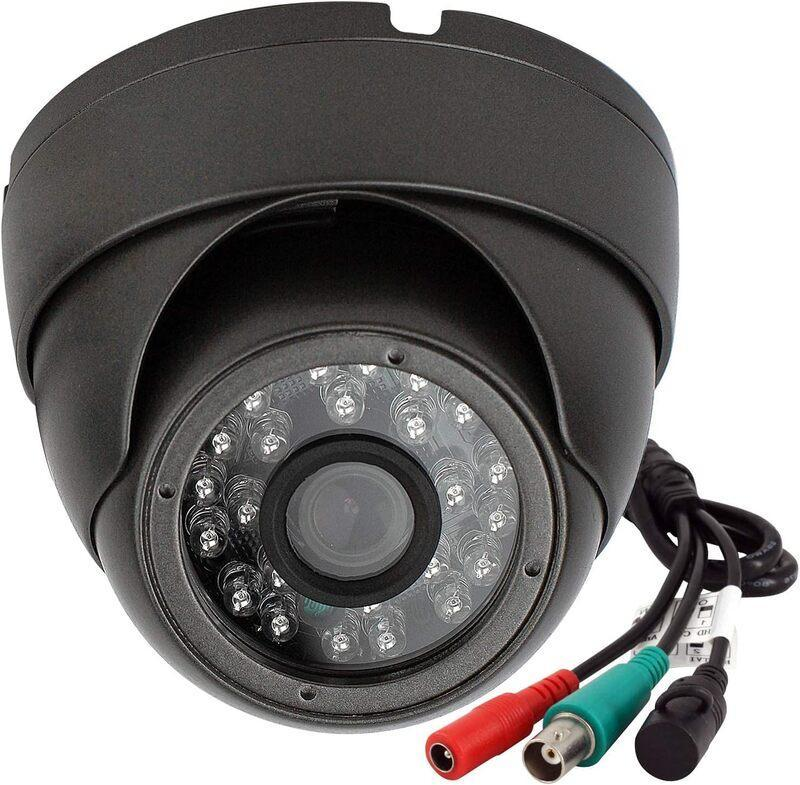turret: (1, 1, 679, 736)
